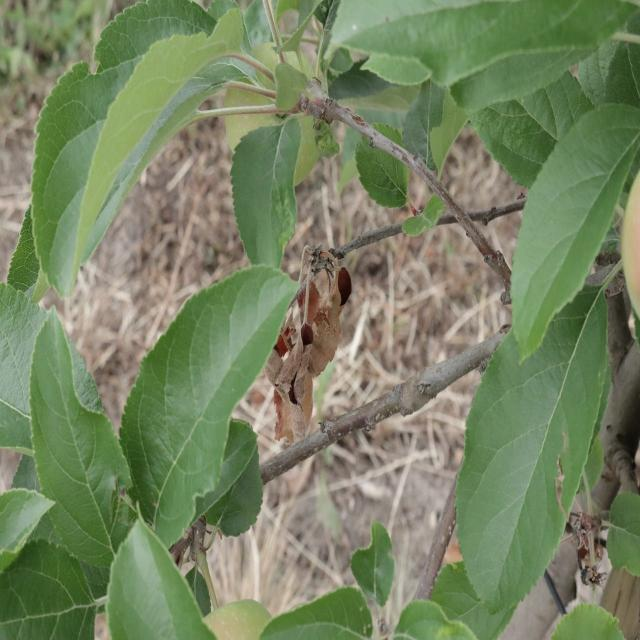-FireBlight-: (282, 250, 354, 432)
